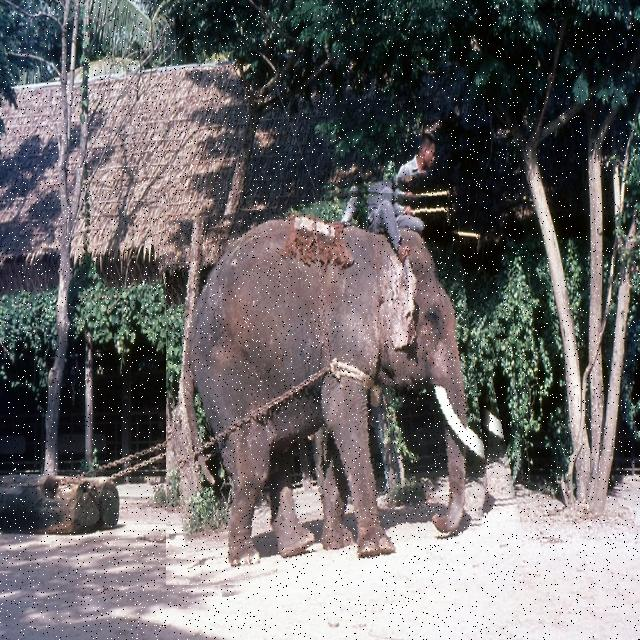elephant: (166, 180, 506, 585)
